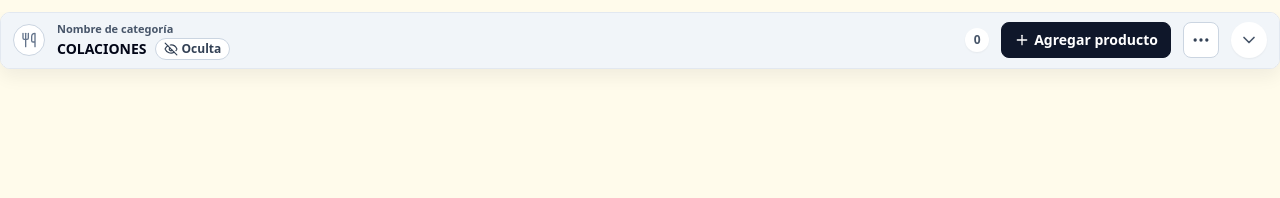
Test case: acciones de gestión de productos › permite mostrar o eliminar una categoría personalizada oculta
Click the button named "Opciones de categoría Colaciones": (1201, 40) [1183, 22, 1219, 58]
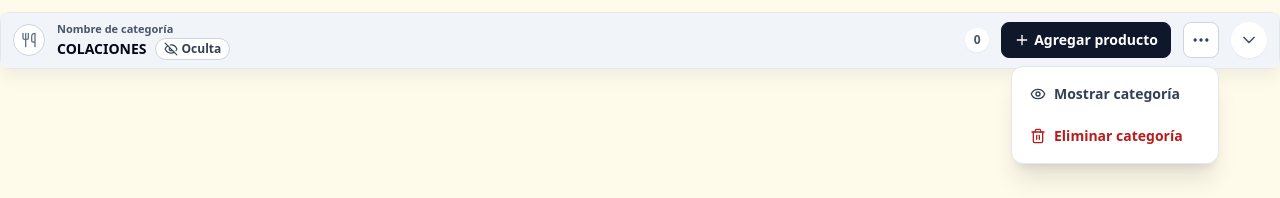
Expected: the button with aria-label "Mostrar categoría Colaciones" is shown, [1018, 73, 1212, 115]
Expected: the button "Eliminar categoría" is shown, [1018, 115, 1212, 157]
